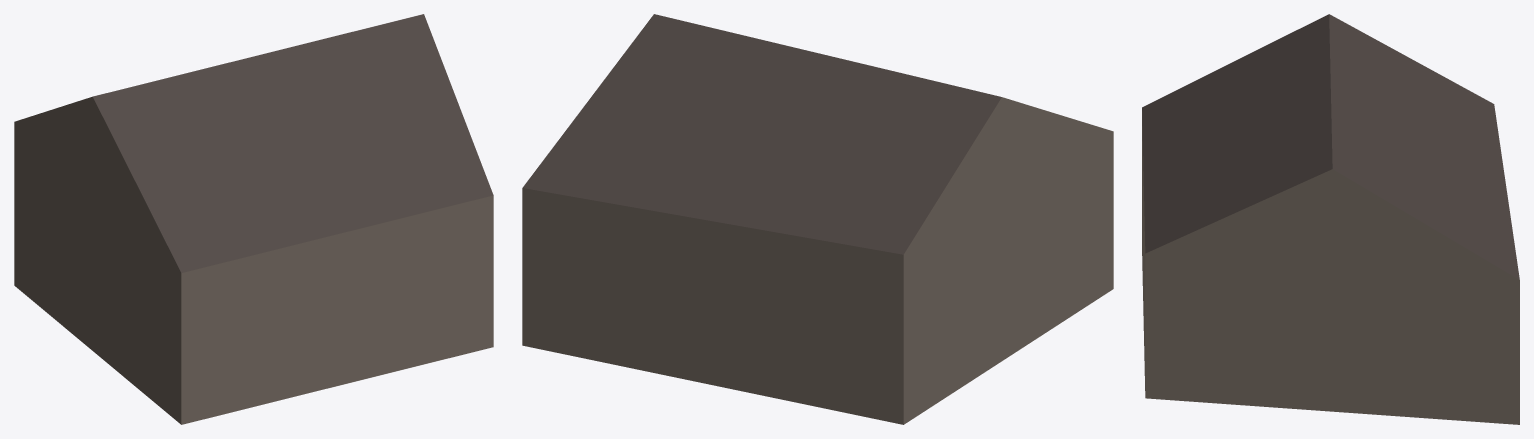
3 renders of one model, left to right at view 1: azimuth 30°, elevation 25°; view 2: azimuth 150°, elevation 25°; view 3: azimuth 270°, elevation 25°, orthographic. The views are drawn at different scales.
Parts seen in each view (by area): view 1: HP-w1515071156; view 2: HP-w1515071156; view 3: HP-w1515071156.
Boxes of the visible parts, x1=… form: HP-w1515071156: x1=14, y1=14, x2=493, y2=424; HP-w1515071156: x1=522, y1=14, x2=1113, y2=424; HP-w1515071156: x1=1142, y1=14, x2=1519, y2=424.
Bounding box in the file's own units: 15.35 × 10.06 × 14.19.
